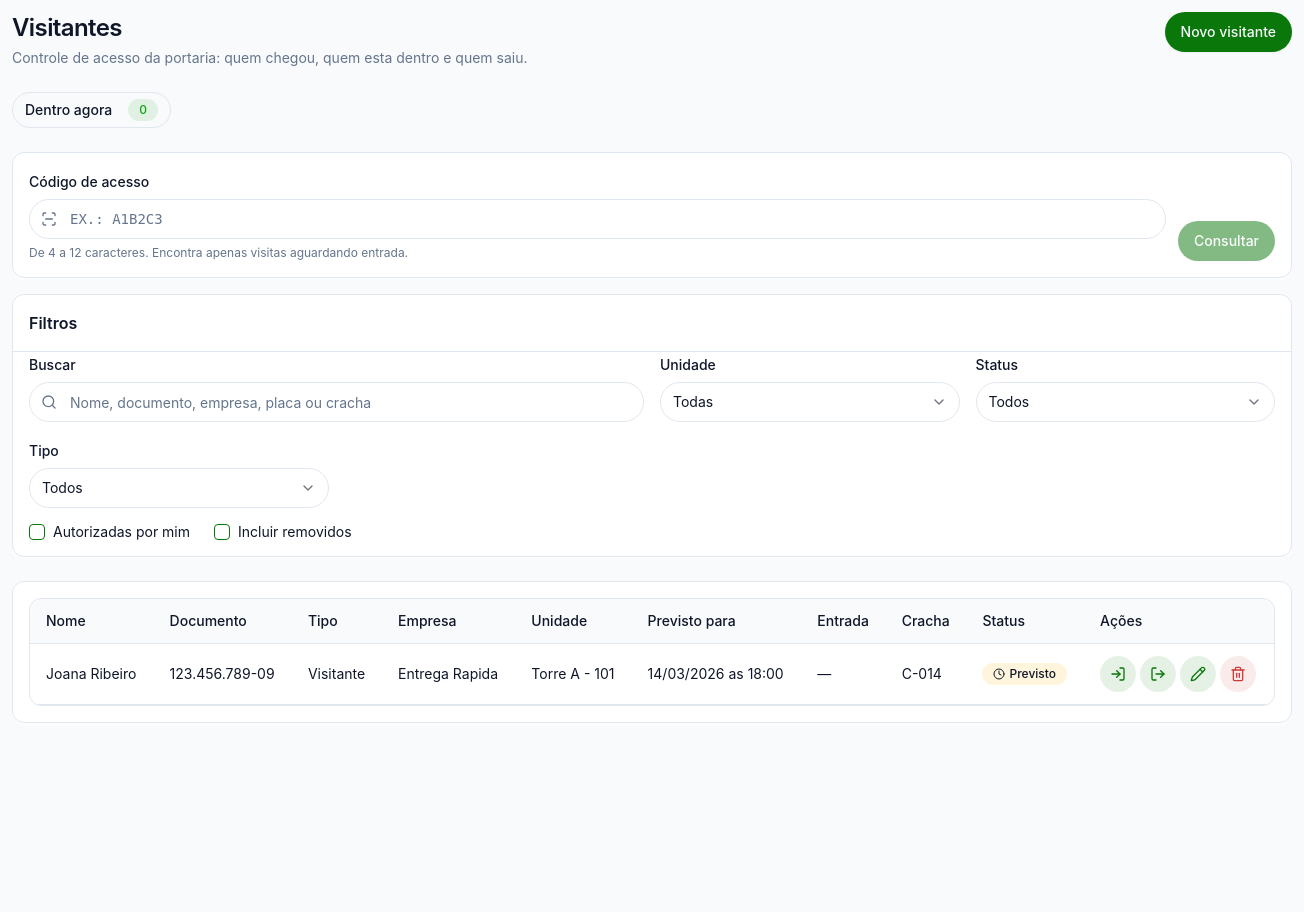
Test case: Estados vazios de visitantes › busca sem resultado oferece limpar, e e distinta da lista vazia
The image size is (1304, 912).
Check: the text "Joana Ribeiro" is shown, box [46,664,136,684]
Type "Ninguem" into the field labelled "Buscar". click: [336, 402]
box: [29,382,644,422]
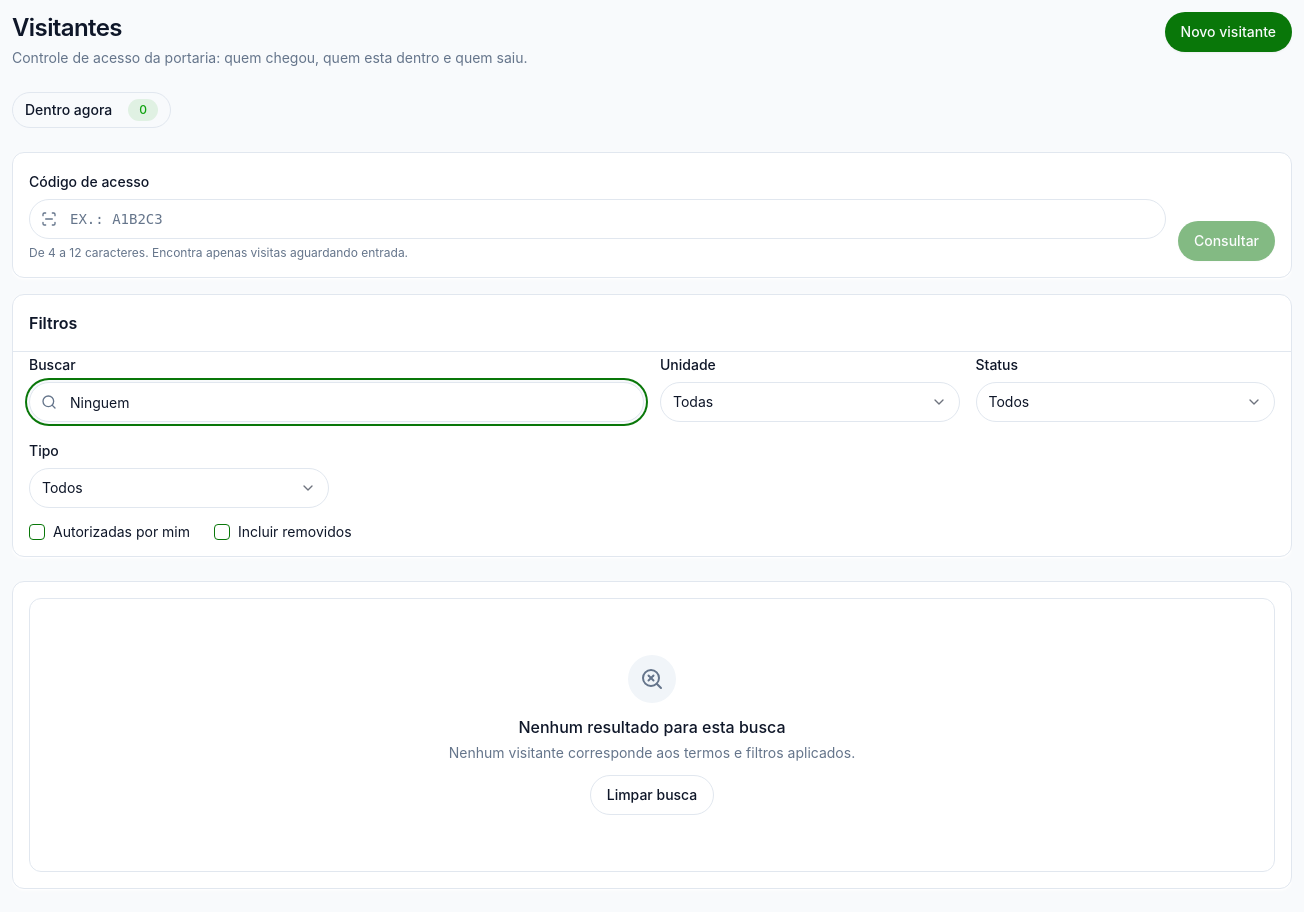
Check: the text "Nenhum resultado para esta busca" is shown, box [518,717,786,737]
Check: the button "Limpar busca" is shown, box [590,775,714,815]
